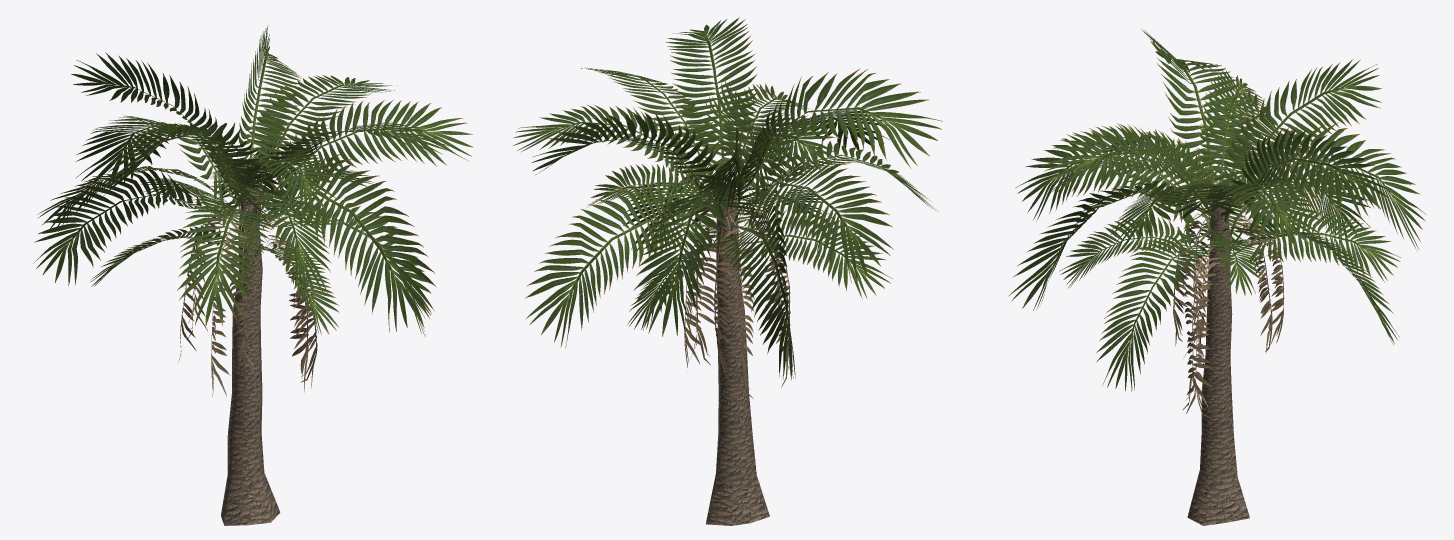
File: Cocos_Nucifera_Autumn_Young.glb
3 renders of one model, left to right at view 1: azimuth 30°, elevation 25°; view 2: azimuth 150°, elevation 25°; view 3: azimuth 270°, elevation 25°, orthographic. The views are drawn at different scales.
Visible parts, largest first — view 1: Cocos_Nucifera_Autumn_Young__LOD3; view 2: Cocos_Nucifera_Autumn_Young__LOD3; view 3: Cocos_Nucifera_Autumn_Young__LOD3.
Boxes of the visible parts, left/top/right/bottom form: Cocos_Nucifera_Autumn_Young__LOD3: left=33, top=25, right=473, bottom=525; Cocos_Nucifera_Autumn_Young__LOD3: left=513, top=17, right=942, bottom=525; Cocos_Nucifera_Autumn_Young__LOD3: left=1008, top=28, right=1426, bottom=525.
Size of the model in its own units: 7.15 by 7.66 by 7.1.
Materials: 2 (2 with a texture image).
